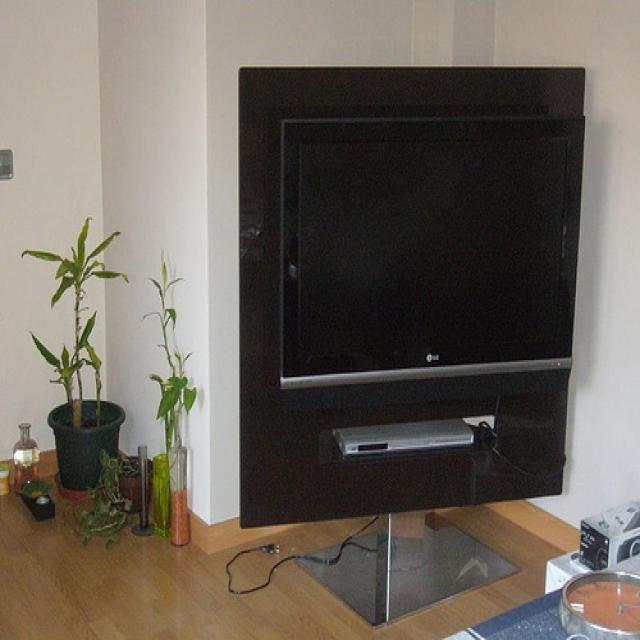pottedplant: (22, 215, 125, 505), (77, 450, 154, 549)
tvmonitor: (276, 116, 586, 394)
